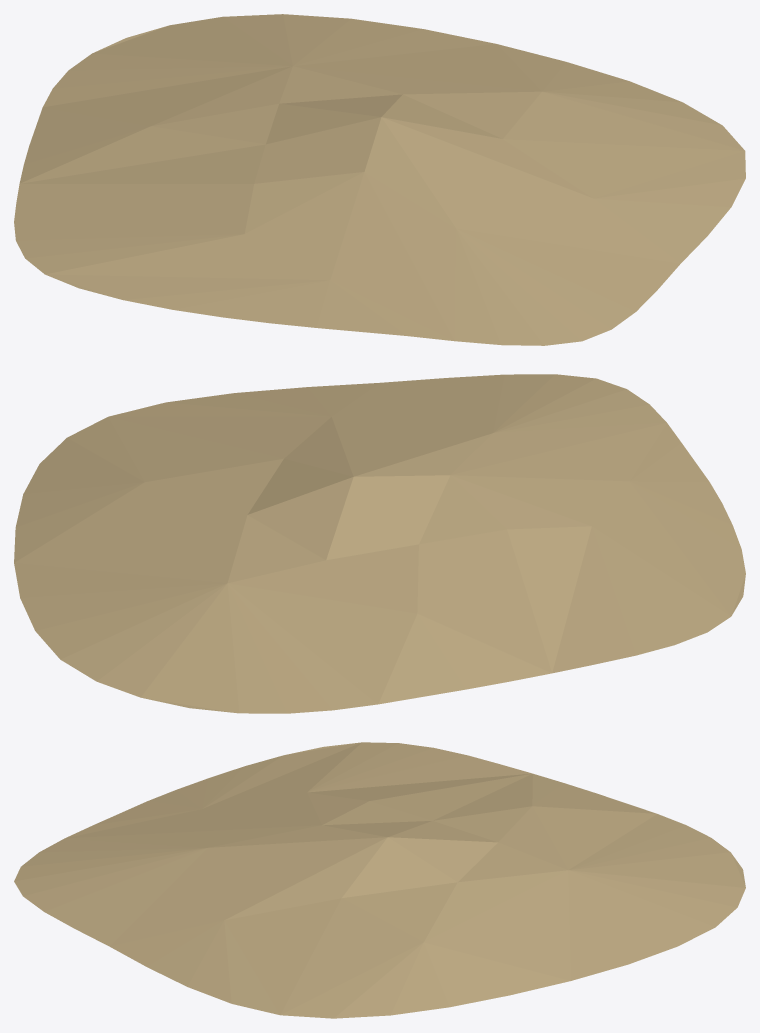
File: SM_Env_Beach_Pile_03.glb
3 renders of one model, top to bottom at view 1: azimuth 30°, elevation 25°; view 2: azimuth 150°, elevation 25°; view 3: azimuth 270°, elevation 25°, orthographic. The views are drawn at different scales.
Parts seen in each view (by area): view 1: SM_Env_Beach_Pile_03_part00; view 2: SM_Env_Beach_Pile_03_part00; view 3: SM_Env_Beach_Pile_03_part00.
Boxes of the visible parts, box(x1,y1,x2,y2) form: SM_Env_Beach_Pile_03_part00: box(14, 14, 745, 345); SM_Env_Beach_Pile_03_part00: box(14, 374, 745, 713); SM_Env_Beach_Pile_03_part00: box(14, 742, 745, 1018).
Bounding box in the file's own units: 2.18 × 0.1935 × 2.45.
1 material, 1 textured.
